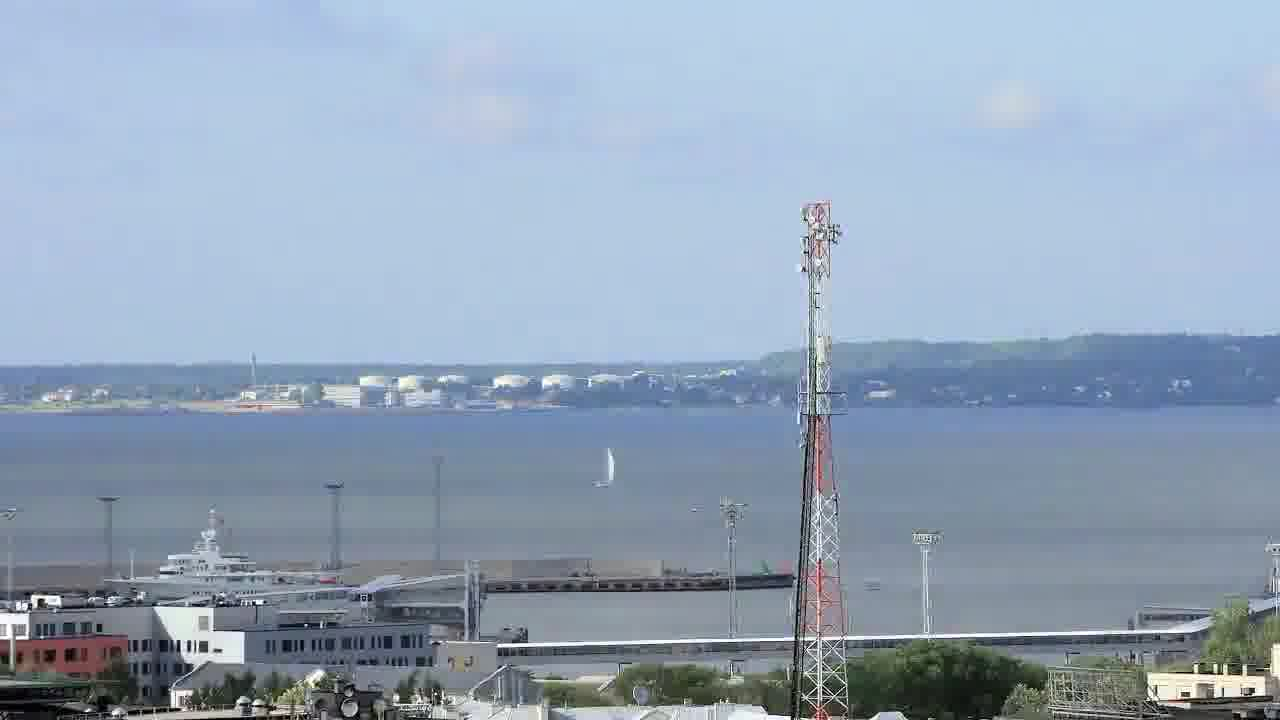type-2: (578, 438, 639, 498)
type-3: (84, 515, 355, 603)
